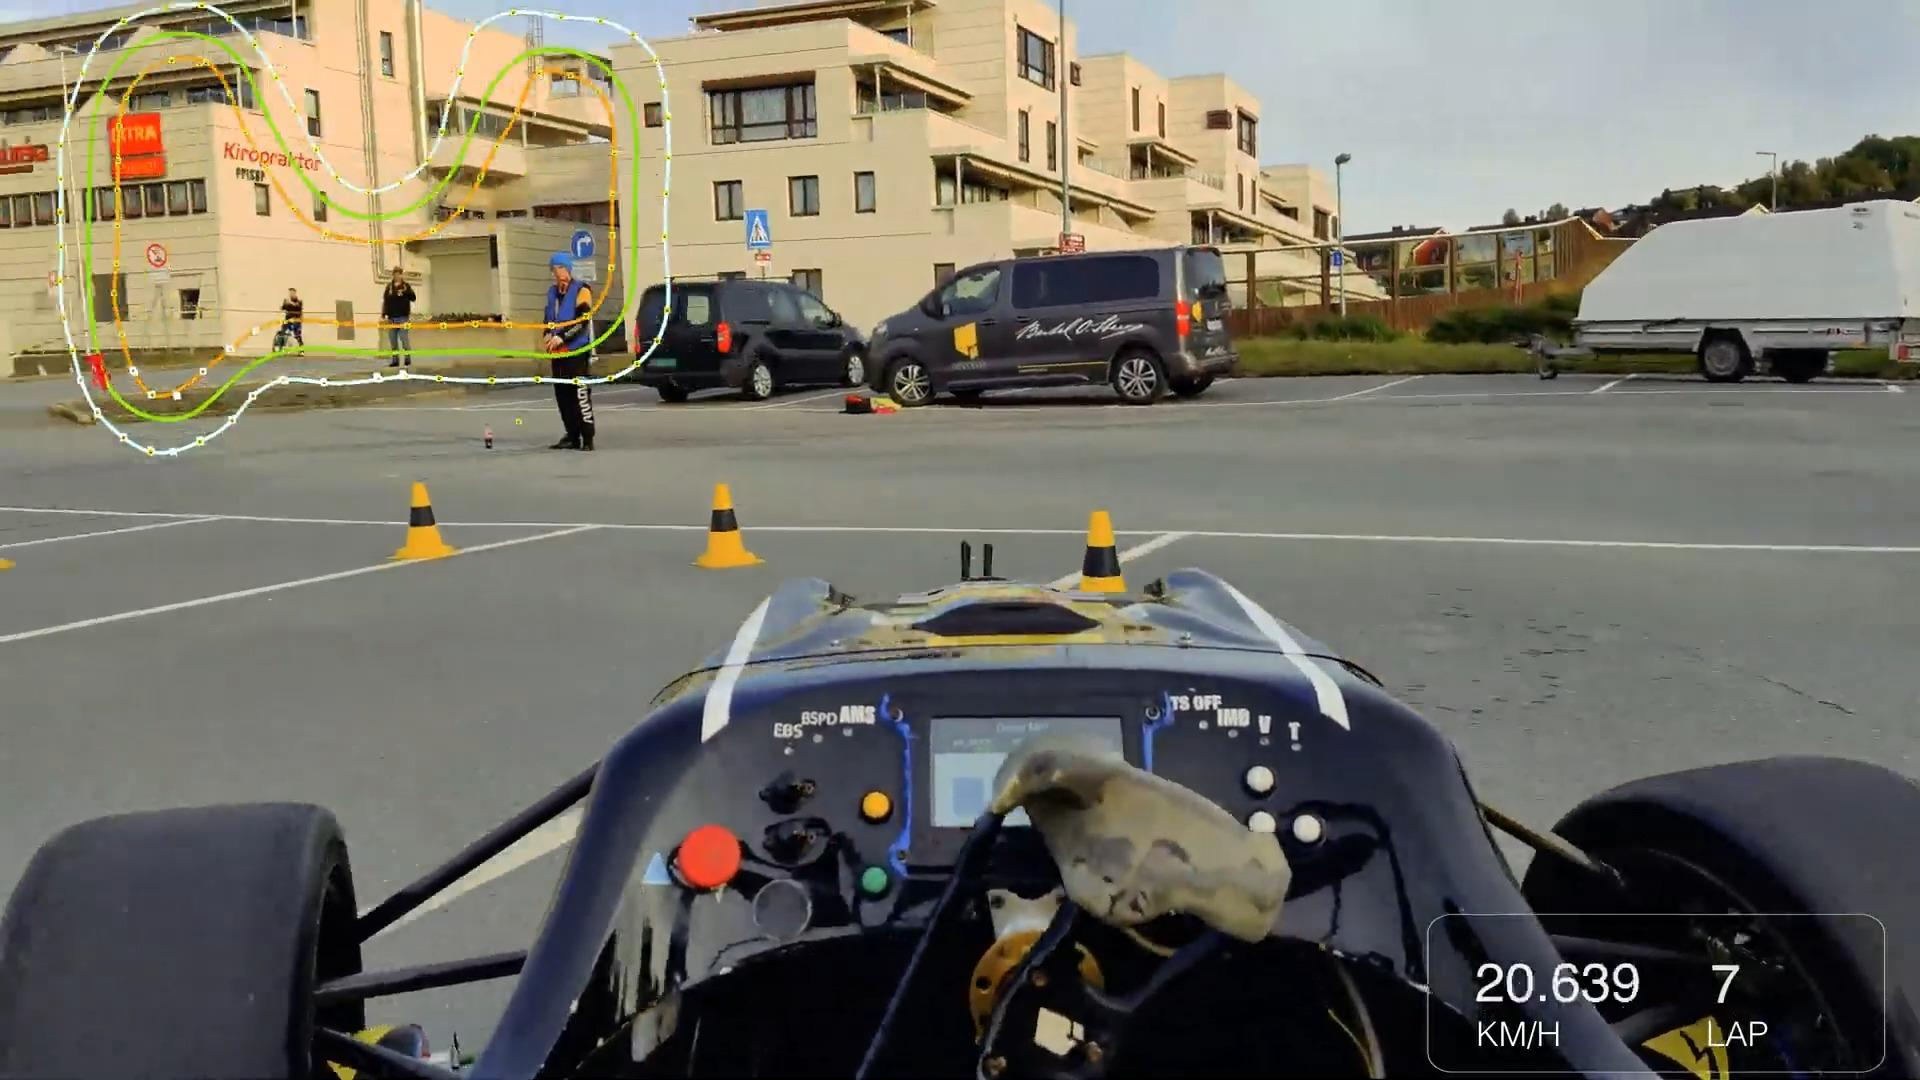yellow_cone: (683, 480, 765, 574), (1071, 496, 1135, 595), (390, 473, 460, 563)
